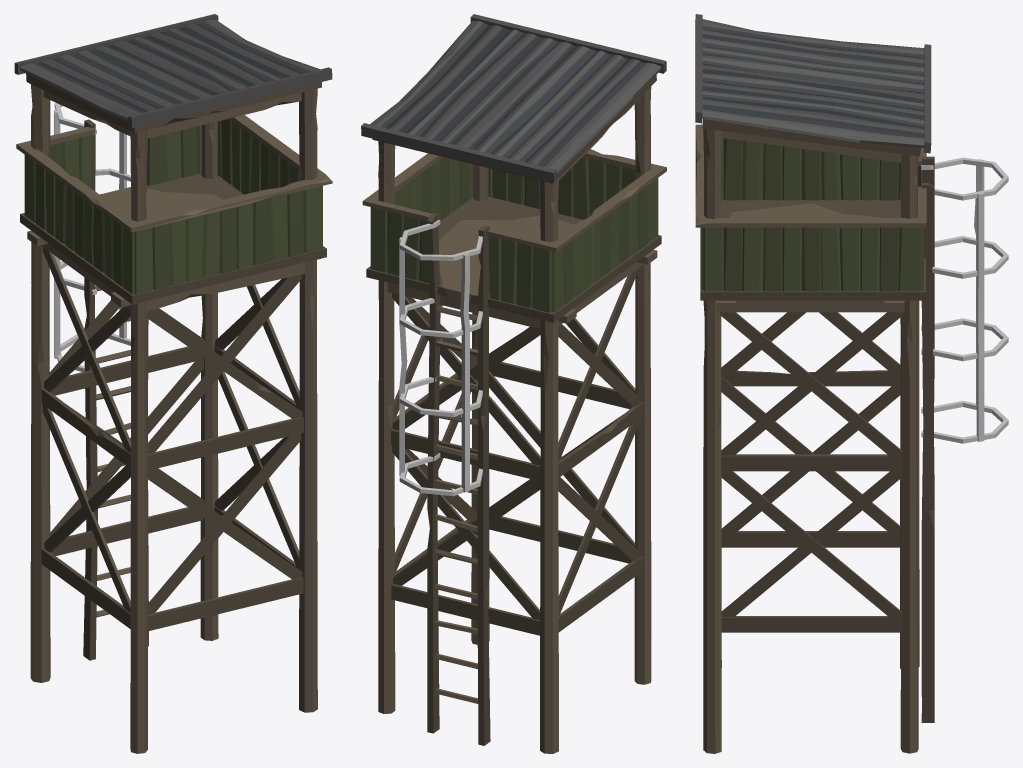
The model's file is SM_Bld_GuardTower_01.fbx.
3 renders of one model, left to right at view 1: azimuth 30°, elevation 25°; view 2: azimuth 150°, elevation 25°; view 3: azimuth 270°, elevation 25°, orthographic. The views are drawn at different scales.
Visible parts, largest first — view 1: SM_Bld_GuardTower_01; view 2: SM_Bld_GuardTower_01; view 3: SM_Bld_GuardTower_01.
Boxes of the visible parts, left/top/right/bottom form: SM_Bld_GuardTower_01: left=14, top=14, right=332, bottom=753; SM_Bld_GuardTower_01: left=361, top=14, right=666, bottom=753; SM_Bld_GuardTower_01: left=695, top=14, right=1008, bottom=753.
Size of the model in its own units: 290 by 886 by 390.
